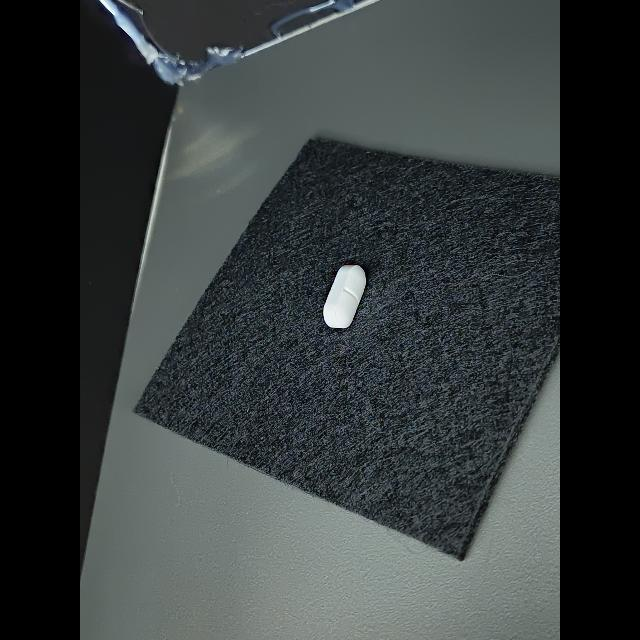Intact Pill: (323, 265, 366, 328)
